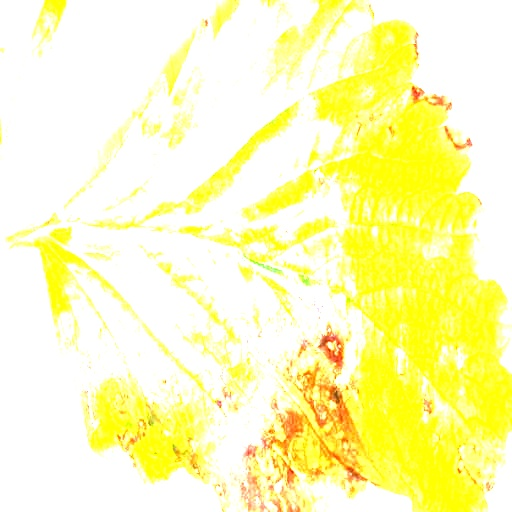Angular Leafspot: (29, 0, 511, 511)
